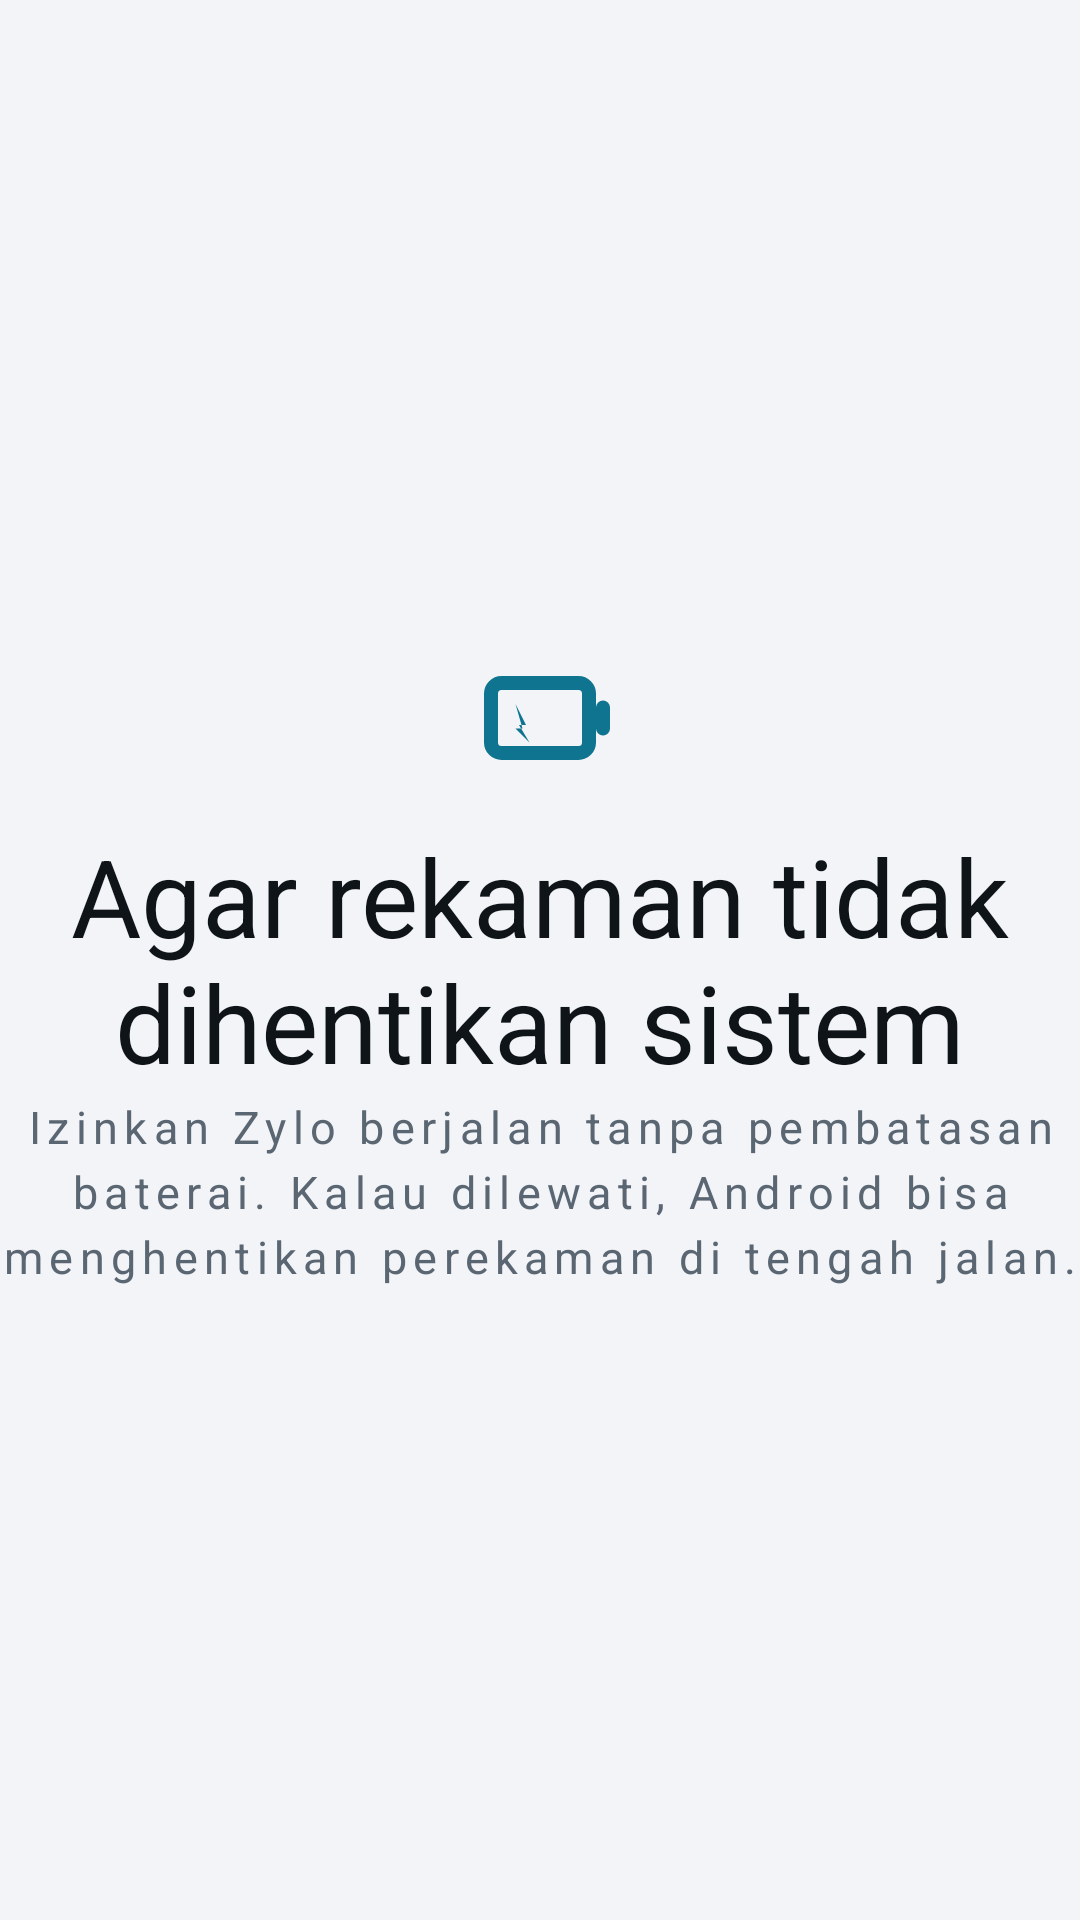

Where icons sit on this 1080*1920 app screen, as (x1, y1, x2, y2):
Ikon baterai: (484, 676, 610, 760)
